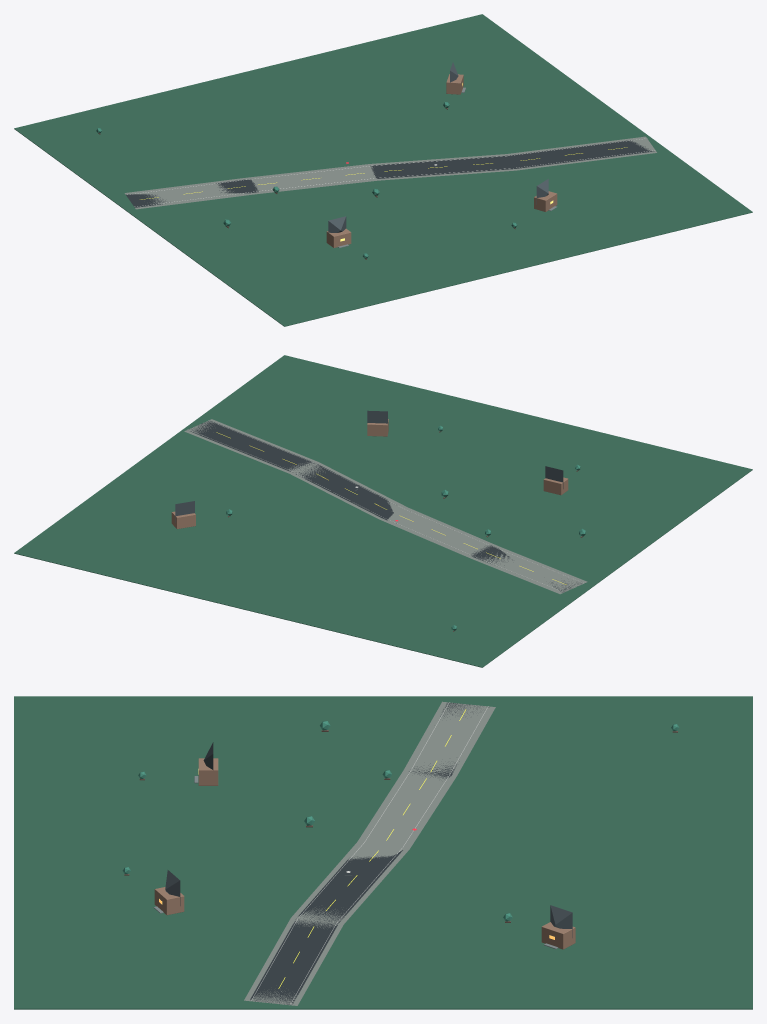
The model's file is redwood_valley.glb.
3 views of the same model, one above another, from view 1: azimuth 30°, elevation 25°; view 2: azimuth 150°, elevation 25°; view 3: azimuth 270°, elevation 25° (orthographic). The views are drawn at different scales.
Parts seen in each view (by area): view 1: REDWOOD VALLEY sector ground, REDWOOD VALLEY regional road shoulder, REDWOOD VALLEY regional road; view 2: REDWOOD VALLEY sector ground, REDWOOD VALLEY regional road shoulder, REDWOOD VALLEY regional road; view 3: REDWOOD VALLEY sector ground, REDWOOD VALLEY regional road shoulder, REDWOOD VALLEY regional road, mountain cabin body.011, mountain cabin body.010.
Boxes of the visible parts, x1=… form: REDWOOD VALLEY sector ground: x1=14, y1=14, x2=752, y2=326; REDWOOD VALLEY regional road shoulder: x1=124, y1=136, x2=656, y2=209; REDWOOD VALLEY regional road: x1=126, y1=140, x2=654, y2=207; REDWOOD VALLEY sector ground: x1=14, y1=355, x2=752, y2=667; REDWOOD VALLEY regional road shoulder: x1=184, y1=419, x2=587, y2=594; REDWOOD VALLEY regional road: x1=189, y1=420, x2=581, y2=592; REDWOOD VALLEY sector ground: x1=14, y1=696, x2=752, y2=1009; REDWOOD VALLEY regional road shoulder: x1=244, y1=701, x2=495, y2=1005; REDWOOD VALLEY regional road: x1=250, y1=702, x2=489, y2=1004; mountain cabin body.011: x1=541, y1=922, x2=575, y2=949; mountain cabin body.010: x1=154, y1=887, x2=184, y2=915.
Bounding box in the file's own units: 190 × 9.45 × 190.
